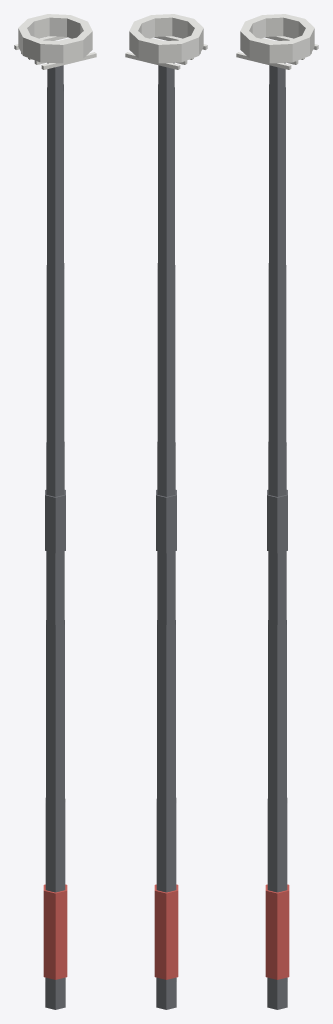
The model's file is golf-course-and-clubhouse-ball-retriever-4dd57c57__33488.glb.
3 views of the same model, side by side, from view 1: azimuth 30°, elevation 25°; view 2: azimuth 150°, elevation 25°; view 3: azimuth 330°, elevation 25° (orthographic).
Parts seen in each view (by area): view 1: ball-retriever; view 2: ball-retriever; view 3: ball-retriever.
Part boxes in pixels (left/top/right/bottom): ball-retriever: left=14, top=14, right=96, bottom=1009; ball-retriever: left=125, top=14, right=207, bottom=1009; ball-retriever: left=236, top=14, right=318, bottom=1009.
Size of the model in its own units: 0.11 by 1.58 by 0.1046.
